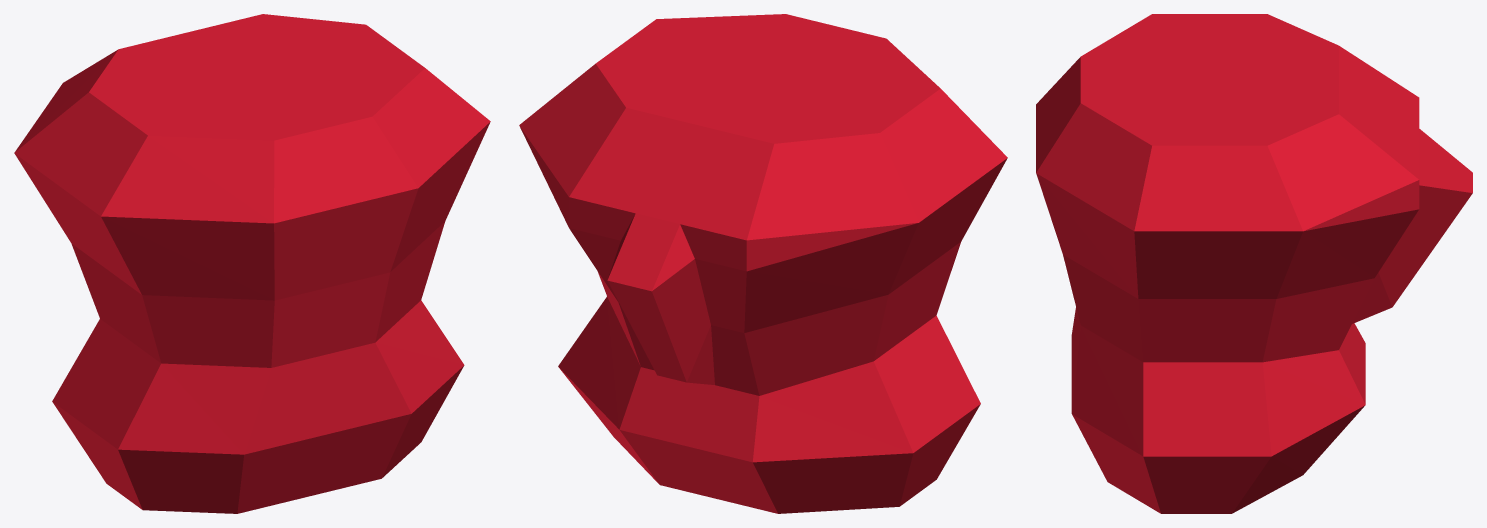
The model's file is body.FBX.
The picture shows the model from 3 angles, left to right: view 1: azimuth 30°, elevation 25°; view 2: azimuth 150°, elevation 25°; view 3: azimuth 270°, elevation 25°; orthographic projection. The views are drawn at different scales.
Parts seen in each view (by area): view 1: VIFS001; view 2: VIFS001; view 3: VIFS001.
Boxes of the visible parts, x1,y1,x2,y2 form: VIFS001: (14, 14, 490, 513); VIFS001: (519, 14, 1007, 513); VIFS001: (1036, 14, 1472, 513).
Bounding box in the file's own units: 2.74 × 2.54 × 2.73.
